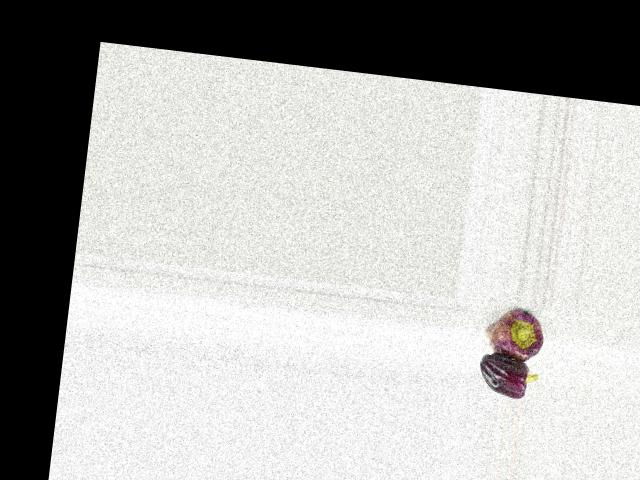bell_pepper: (472, 302, 558, 366)
